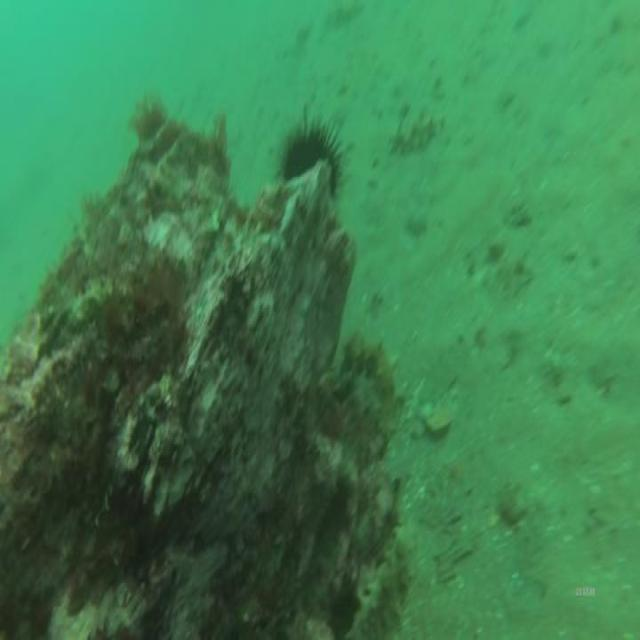echinus: (277, 106, 351, 207)
holothurian: (349, 523, 415, 640), (340, 321, 399, 442), (385, 104, 445, 158)
